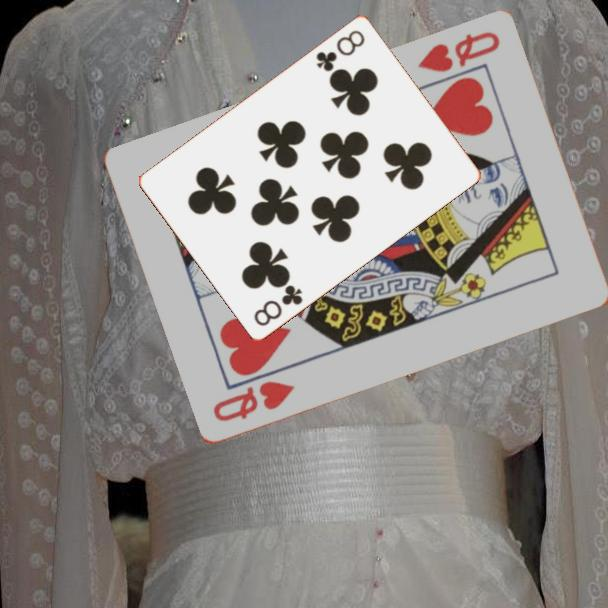c08: (312, 26, 368, 74), (250, 281, 306, 329)
h12: (414, 28, 503, 76), (209, 378, 298, 425)
